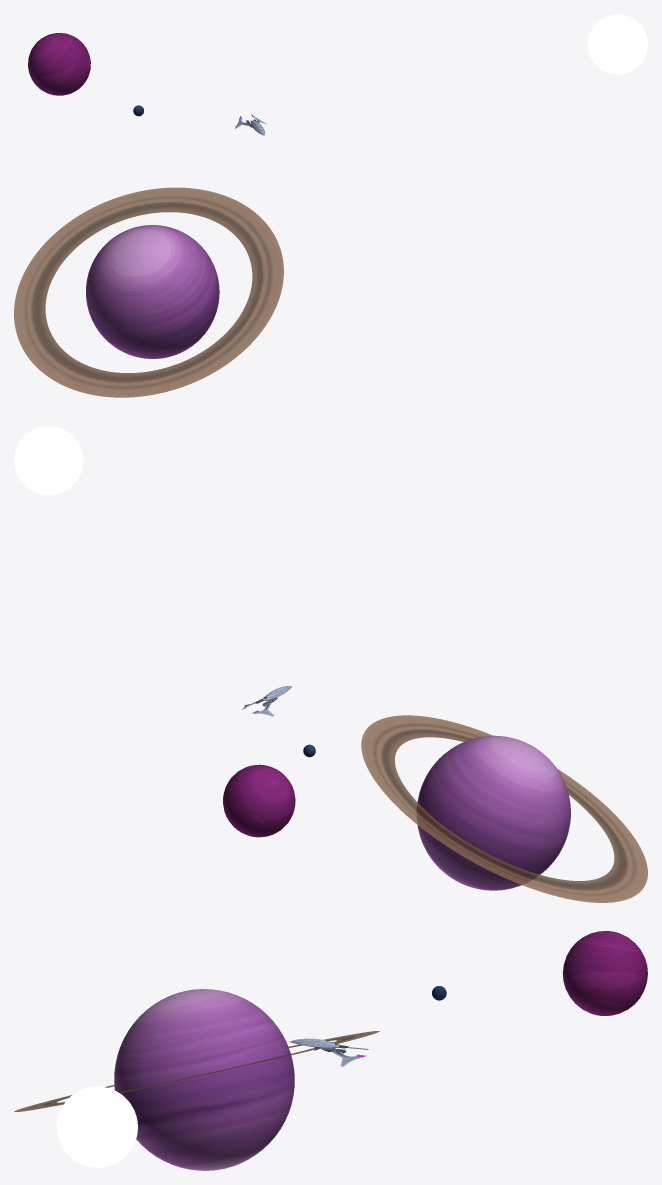
The picture shows the model from 3 angles, top to bottom: view 1: azimuth 30°, elevation 25°; view 2: azimuth 150°, elevation 25°; view 3: azimuth 270°, elevation 25°; orthographic projection. The views are drawn at different scales.
Parts seen in each view (by area): view 1: ring_3, atmosphere_2, big planet_4, pink planet_0, Sphere_5; view 2: atmosphere_2, big planet_4, ring_3, pink planet_0, Sphere_5; view 3: atmosphere_2, big planet_4, pink planet_0, Sphere_5, ring_3, nacelles_9.
Boxes of the visible parts, x1,y1,x2,y2 form: ring_3: [14, 187, 283, 397]; atmosphere_2: [86, 225, 219, 358]; big planet_4: [87, 226, 217, 357]; pink planet_0: [28, 33, 90, 95]; Sphere_5: [588, 14, 647, 74]; atmosphere_2: [417, 735, 570, 890]; big planet_4: [419, 737, 569, 888]; ring_3: [361, 715, 647, 902]; pink planet_0: [223, 764, 295, 837]; Sphere_5: [14, 426, 83, 495]; atmosphere_2: [114, 989, 294, 1170]; big planet_4: [116, 991, 292, 1168]; pink planet_0: [562, 931, 647, 1015]; Sphere_5: [56, 1086, 137, 1167]; ring_3: [14, 1031, 379, 1111]; nacelles_9: [320, 1045, 369, 1066].
Size of the model in its own units: 68.28 by 29.93 by 48.76.
